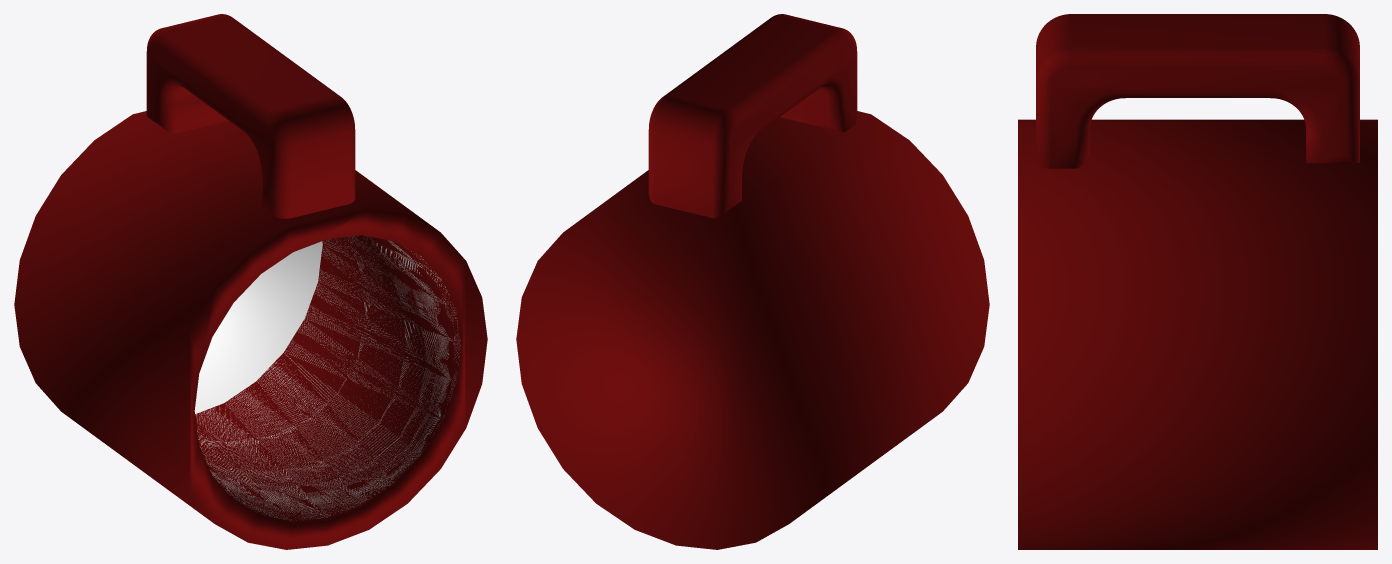
The model's file is model_align.obj.
3 renders of one model, left to right at view 1: azimuth 30°, elevation 25°; view 2: azimuth 150°, elevation 25°; view 3: azimuth 270°, elevation 25°, orthographic. The views are drawn at different scales.
Visible parts, largest first — view 1: mesh2_mesh2-geometry, mesh1_mesh1-geometry; view 2: mesh2_mesh2-geometry, mesh1_mesh1-geometry; view 3: mesh2_mesh2-geometry, mesh1_mesh1-geometry.
Part boxes in pixels (box(x1,y1,x2,y2)): mesh2_mesh2-geometry: box(14, 111, 487, 549); mesh1_mesh1-geometry: box(146, 14, 355, 218); mesh2_mesh2-geometry: box(516, 111, 989, 549); mesh1_mesh1-geometry: box(648, 14, 857, 218); mesh2_mesh2-geometry: box(1018, 119, 1377, 549); mesh1_mesh1-geometry: box(1036, 14, 1359, 168).
Size of the model in its own units: 0.0914 by 0.1166 by 0.0762.
